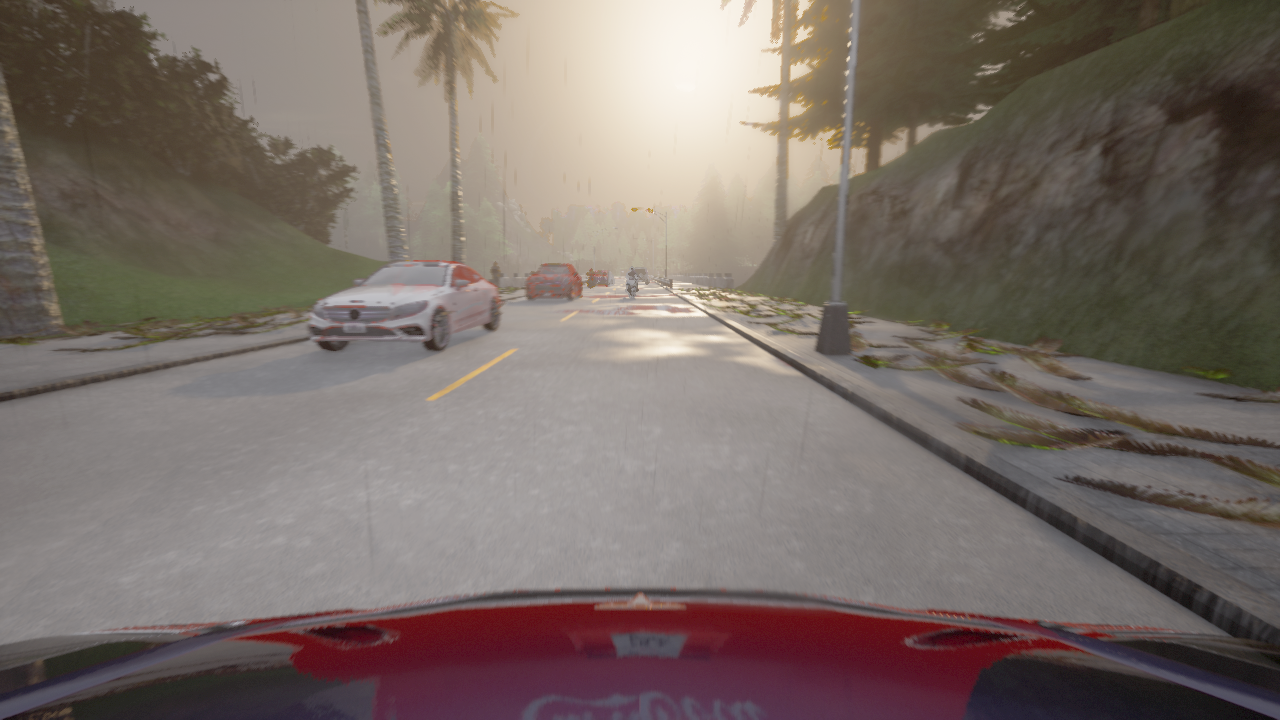cyclist: (0, 588, 1279, 719), (307, 261, 504, 351), (525, 264, 581, 300), (626, 276, 640, 298), (593, 271, 609, 286), (634, 268, 647, 284), (605, 271, 612, 284), (586, 273, 592, 287)
pedestrian: (491, 263, 499, 288)
